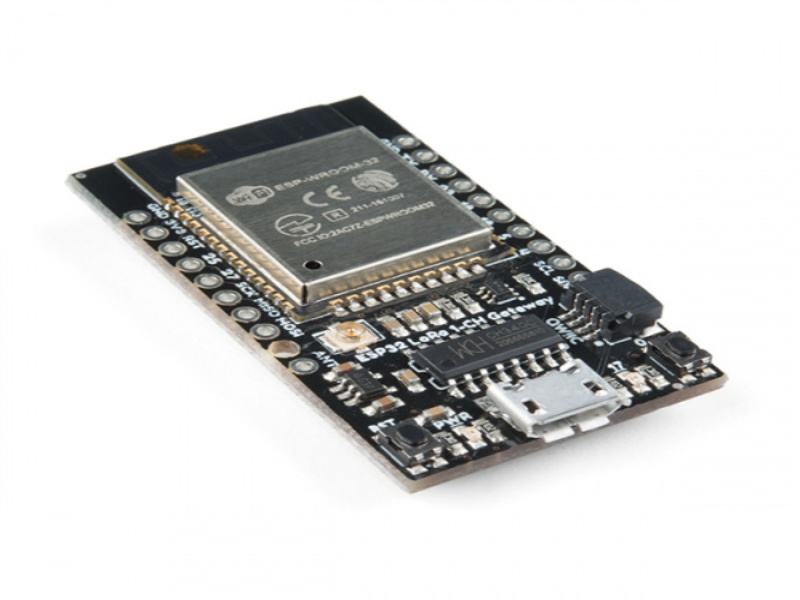esp32: (80, 56, 744, 485)
